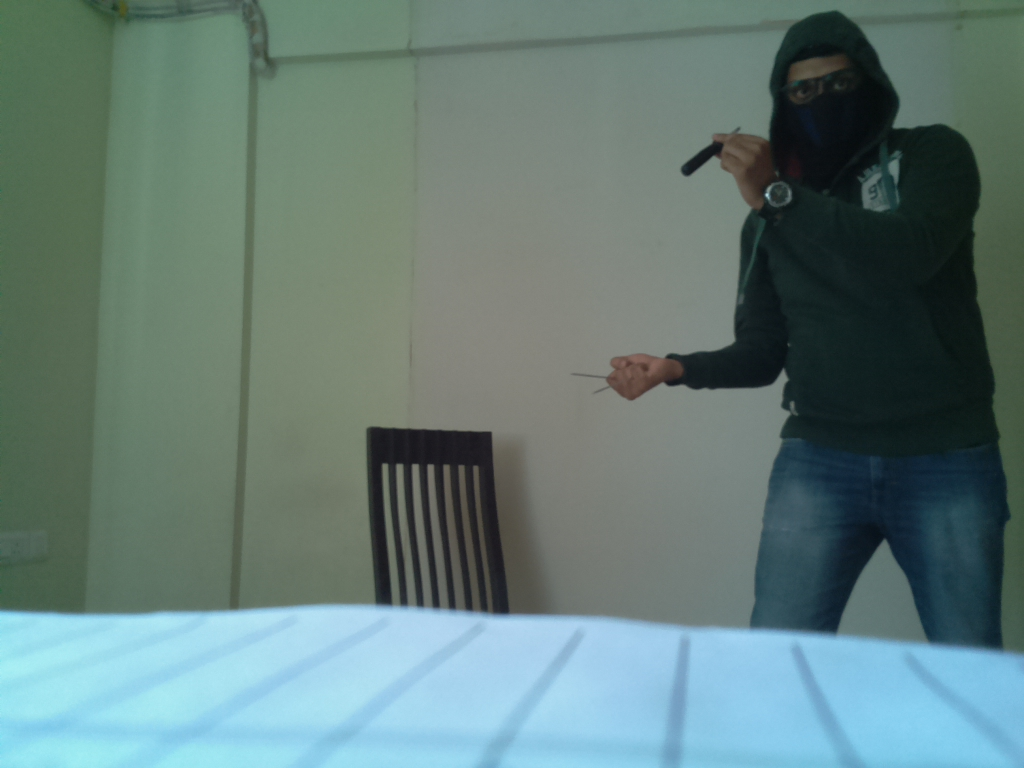none2: (763, 175, 801, 217)
none3: (677, 123, 749, 192), (569, 367, 621, 384)
